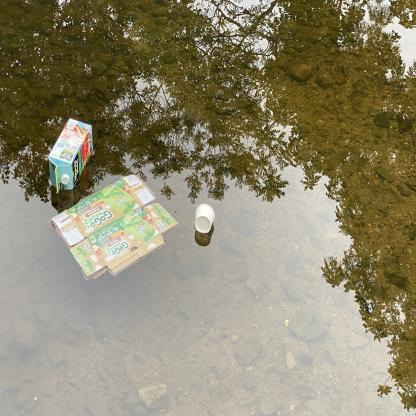trash: (46, 170, 182, 286), (46, 114, 96, 198), (189, 201, 218, 239)
